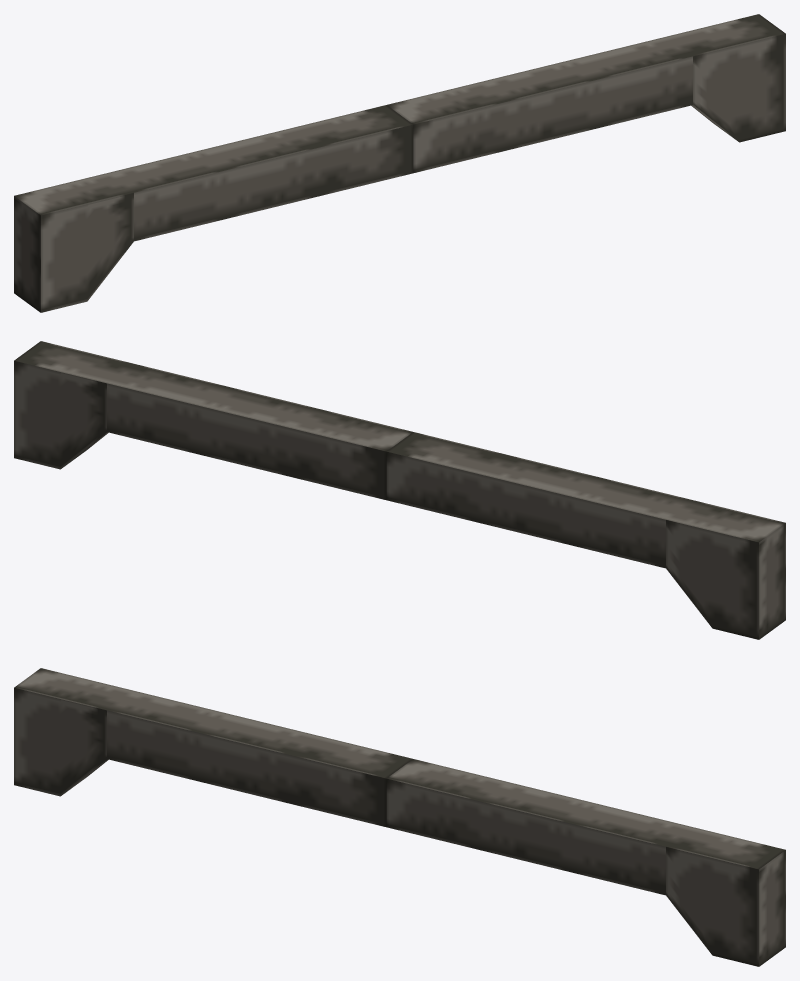
The model's file is Ceiling_Decoration_Wide.fbx.
3 views of the same model, one above another, from view 1: azimuth 30°, elevation 25°; view 2: azimuth 150°, elevation 25°; view 3: azimuth 330°, elevation 25° (orthographic).
Parts seen in each view (by area): view 1: Ceiling_Decoration_Wide; view 2: Ceiling_Decoration_Wide; view 3: Ceiling_Decoration_Wide.
Part boxes in pixels (box(x1,y1,x2,y2)): Ceiling_Decoration_Wide: box(14, 14, 785, 312); Ceiling_Decoration_Wide: box(14, 341, 785, 639); Ceiling_Decoration_Wide: box(14, 668, 785, 966).
Size of the model in its own units: 800 by 100 by 50.
1 material, 1 textured.
